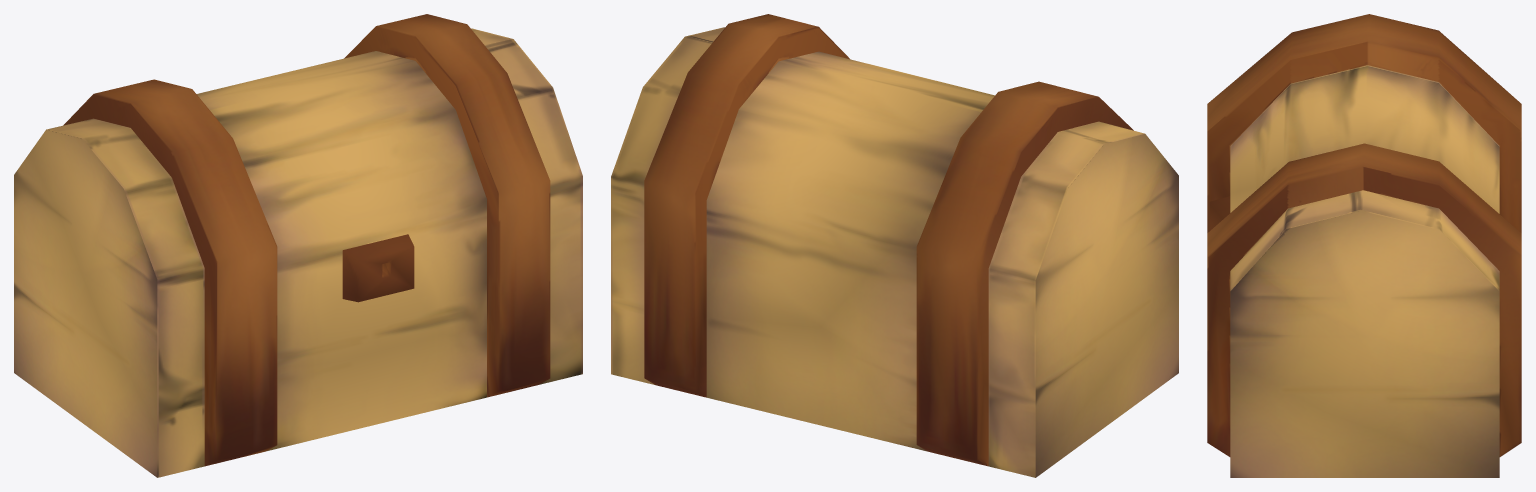
The model's file is chest.gltf.
3 renders of one model, left to right at view 1: azimuth 30°, elevation 25°; view 2: azimuth 150°, elevation 25°; view 3: azimuth 270°, elevation 25°, orthographic. The views are drawn at different scales.
Visible parts, largest first — view 1: Cube.001; view 2: Cube.001; view 3: Cube.001.
Part boxes in pixels (<box>): Cube.001: <box>14,14,582,477</box>; Cube.001: <box>611,14,1178,477</box>; Cube.001: <box>1207,14,1521,477</box>.
Bounding box in the file's own units: 3.04 × 2.11 × 2.06.
Materials: 1 (1 with a texture image).
